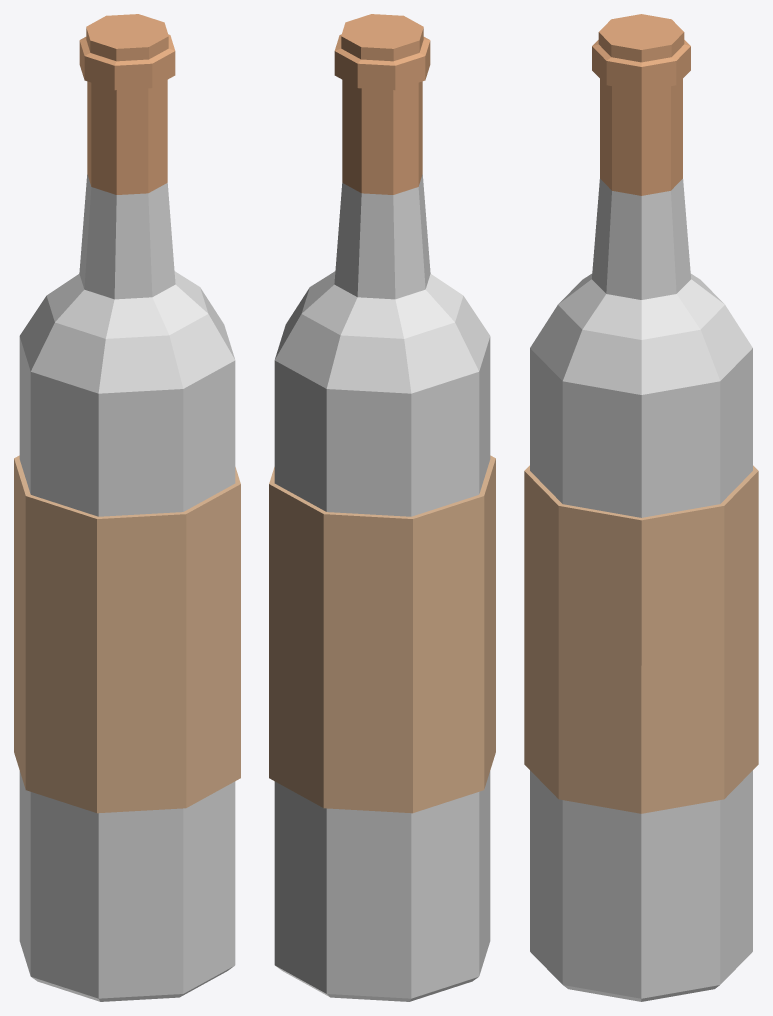
The model's file is Botella_2_2.fbx.
3 renders of one model, left to right at view 1: azimuth 30°, elevation 25°; view 2: azimuth 150°, elevation 25°; view 3: azimuth 270°, elevation 25°, orthographic.
Parts seen in each view (by area): view 1: Botella_2_2; view 2: Botella_2_2; view 3: Botella_2_2.
Boxes of the visible parts, x1,y1,x2,y2 form: Botella_2_2: (14,14,240,1001); Botella_2_2: (269,14,495,1001); Botella_2_2: (524,14,758,1001).
Bounding box in the file's own units: 48.38 × 211 × 48.38.
